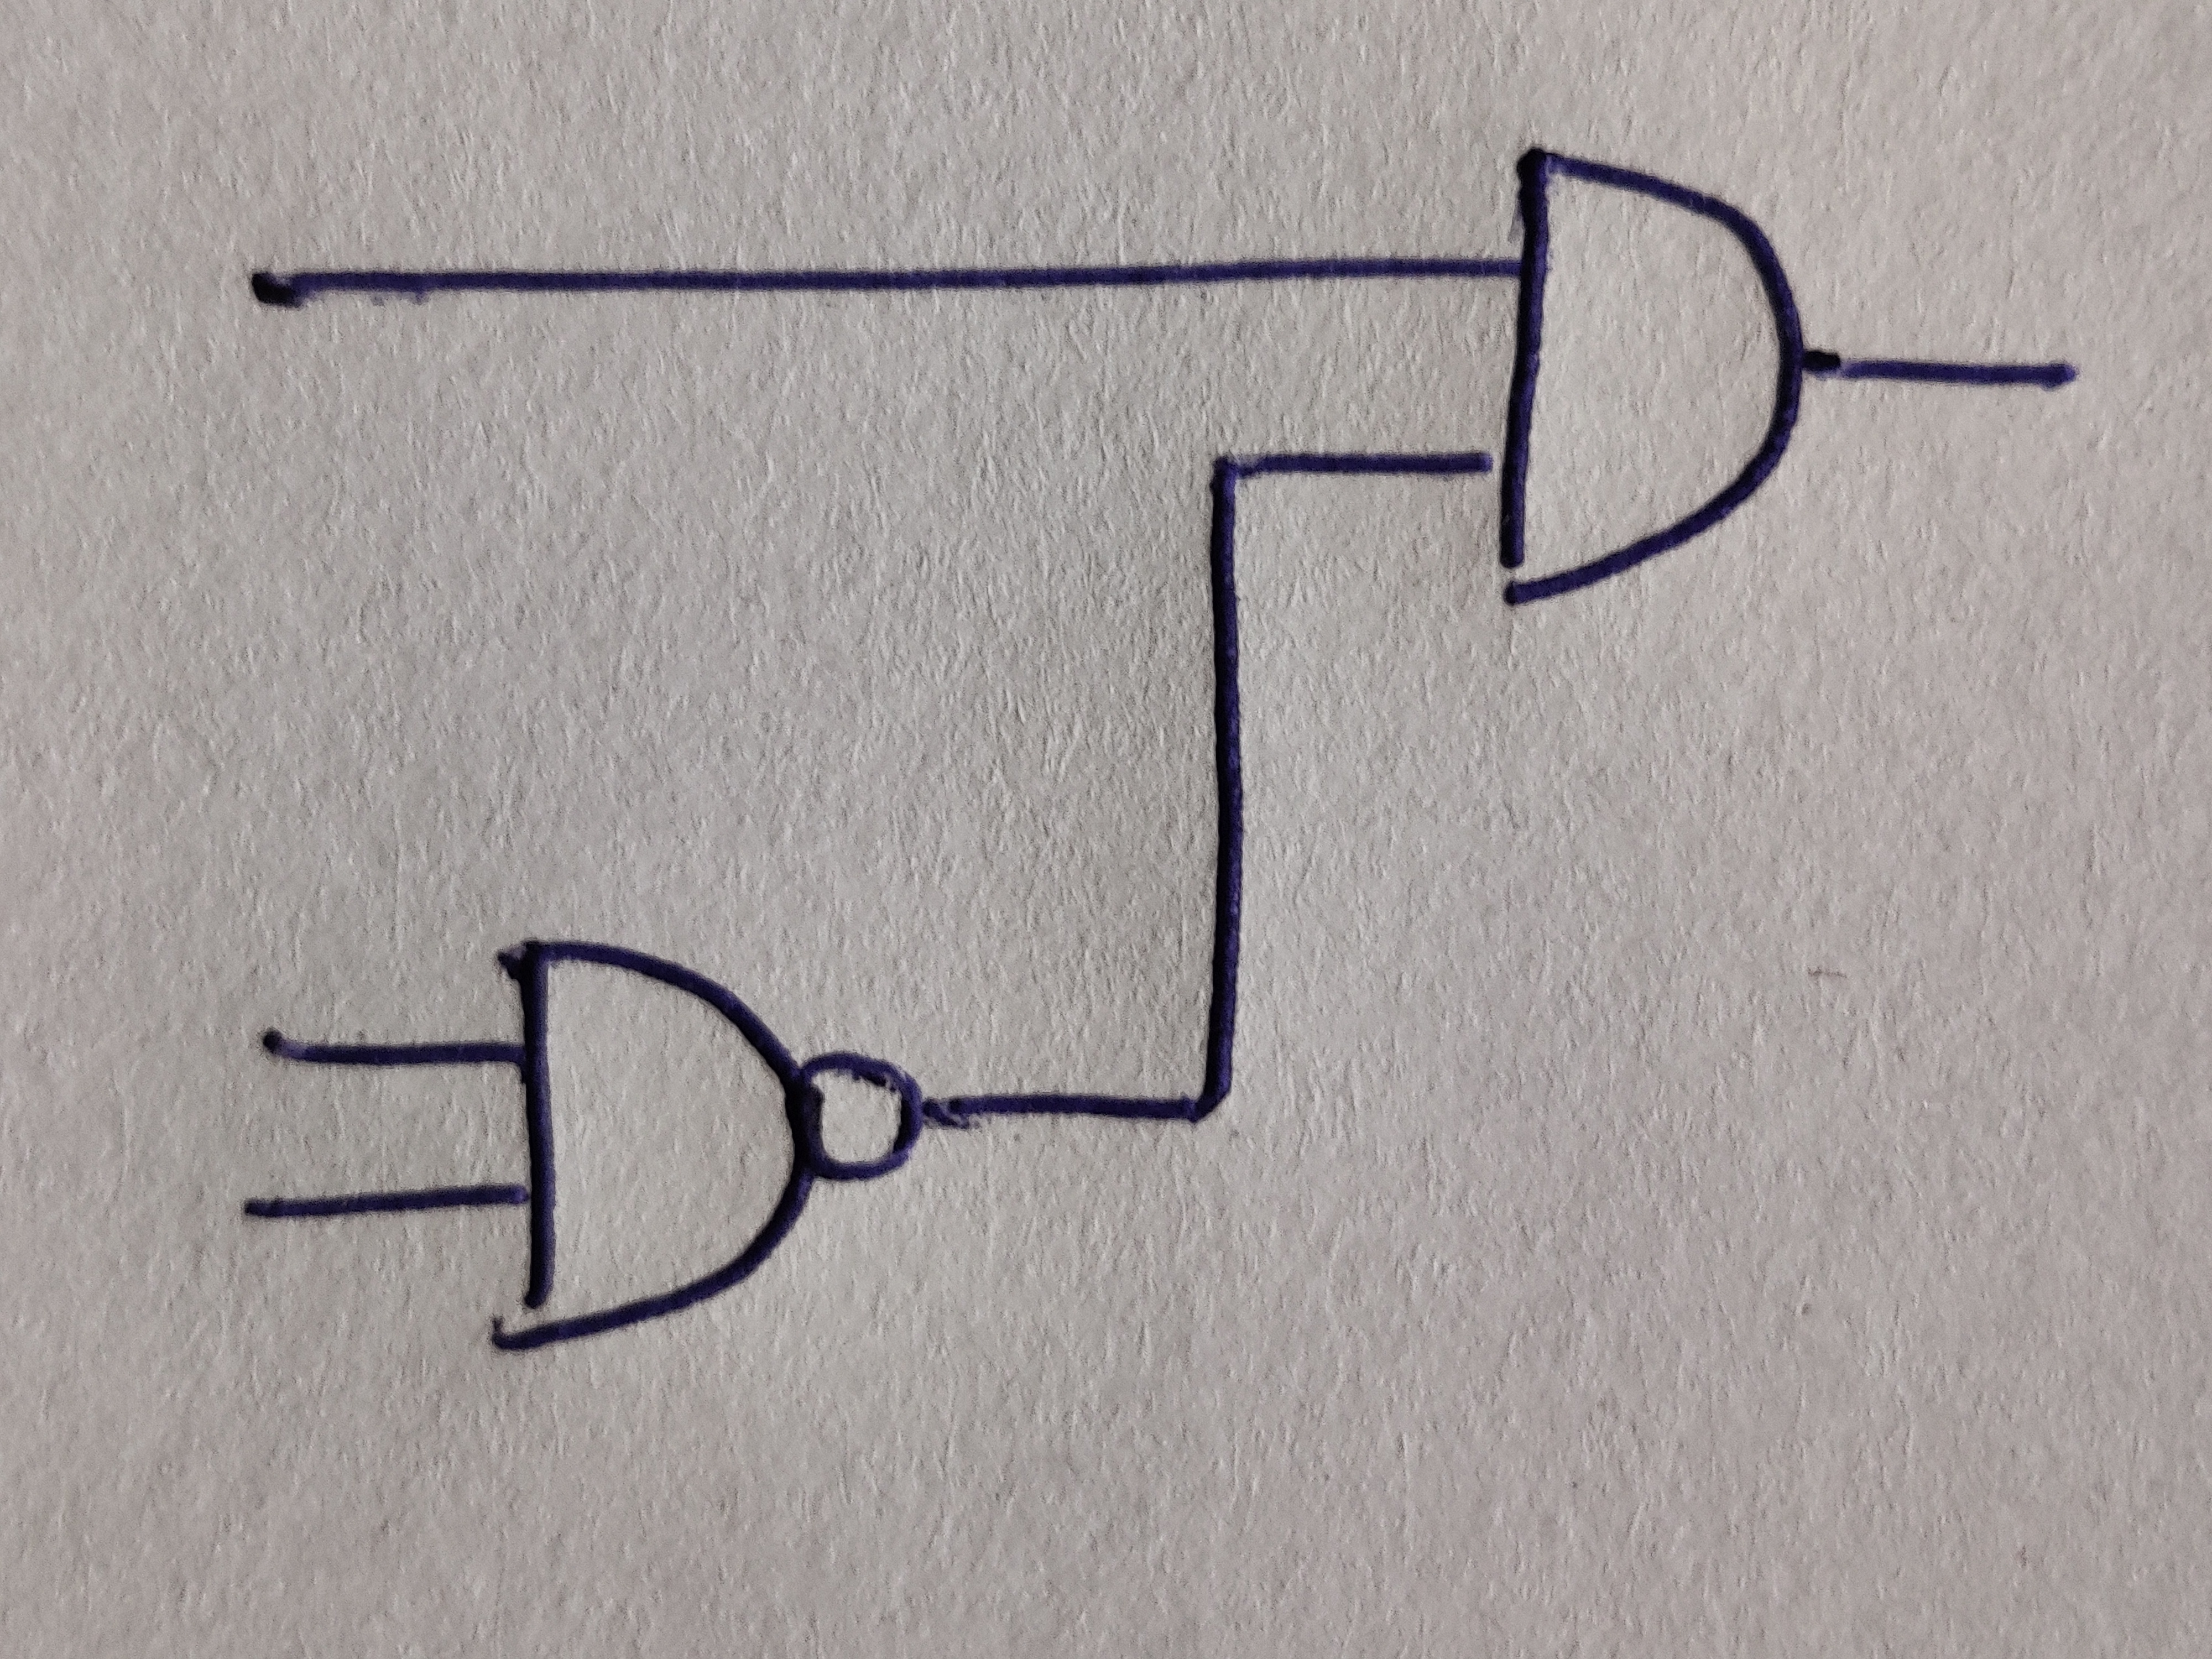and: (1498, 148, 1803, 606), (493, 939, 822, 1351)
not: (796, 1053, 927, 1180)
